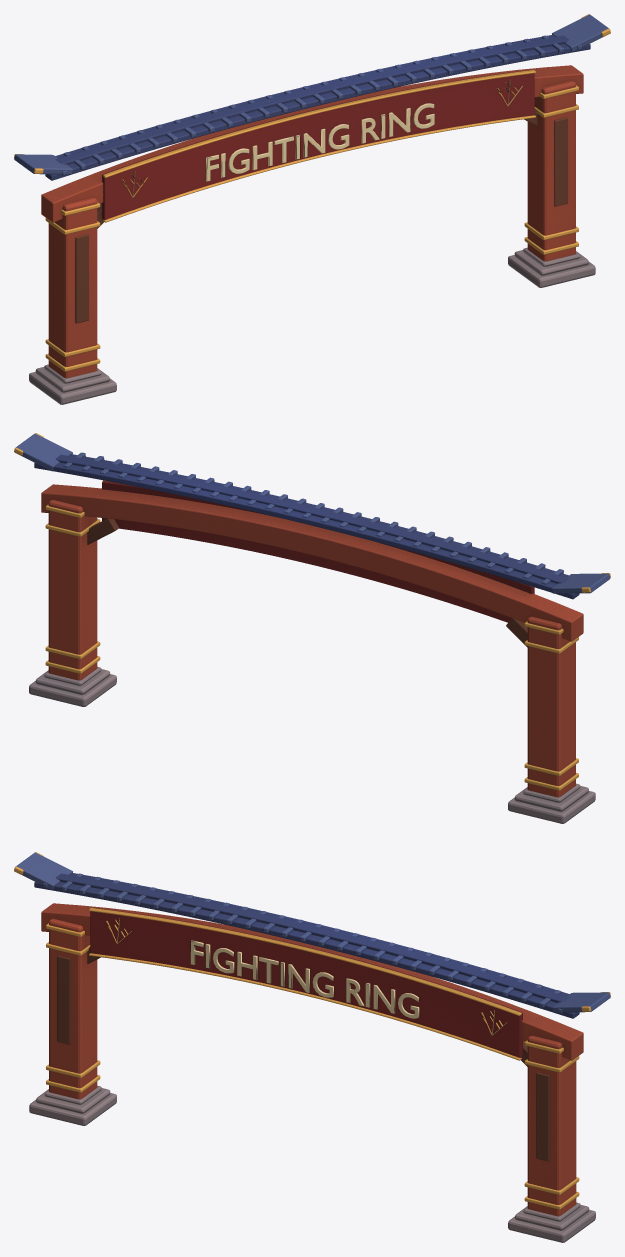
File: Fighting_Ring_Gate.glb
3 renders of one model, top to bottom at view 1: azimuth 30°, elevation 25°; view 2: azimuth 150°, elevation 25°; view 3: azimuth 330°, elevation 25°, orthographic.
Visible parts, largest first — view 1: Beast Dojo Fighting Ring Gateway LOD0; view 2: Beast Dojo Fighting Ring Gateway LOD0; view 3: Beast Dojo Fighting Ring Gateway LOD0.
Part boxes in pixels (x1,y1,x2,y2): Beast Dojo Fighting Ring Gateway LOD0: [14, 14, 610, 404]; Beast Dojo Fighting Ring Gateway LOD0: [14, 433, 610, 823]; Beast Dojo Fighting Ring Gateway LOD0: [14, 852, 610, 1242].
Size of the model in its own units: 28.56 by 11.27 by 2.82.
1 material, 1 textured.
